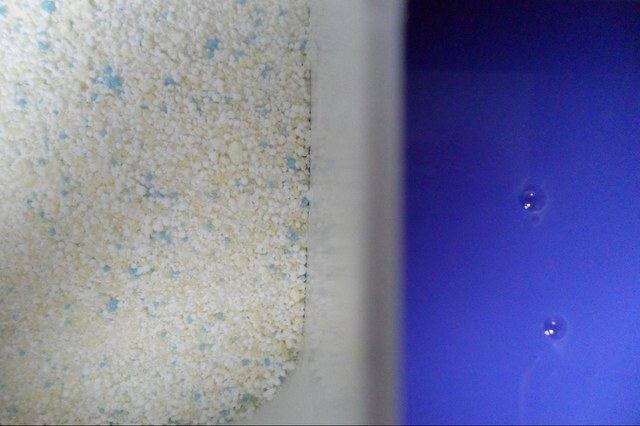Tide Plus Detergent: (32, 21, 608, 405)
